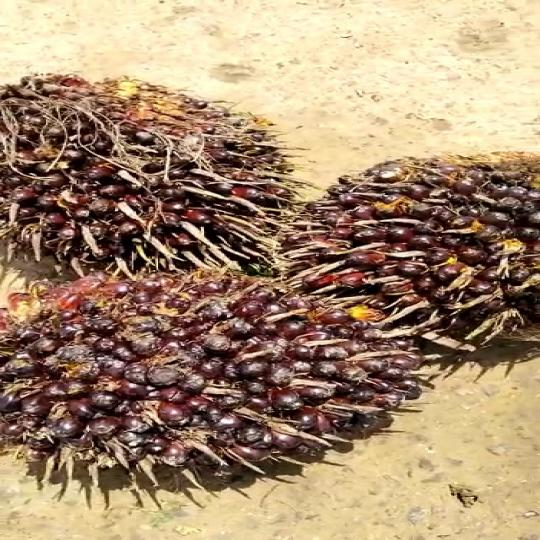kurang masak: (0, 286, 417, 504), (1, 73, 316, 282), (298, 127, 540, 385)
